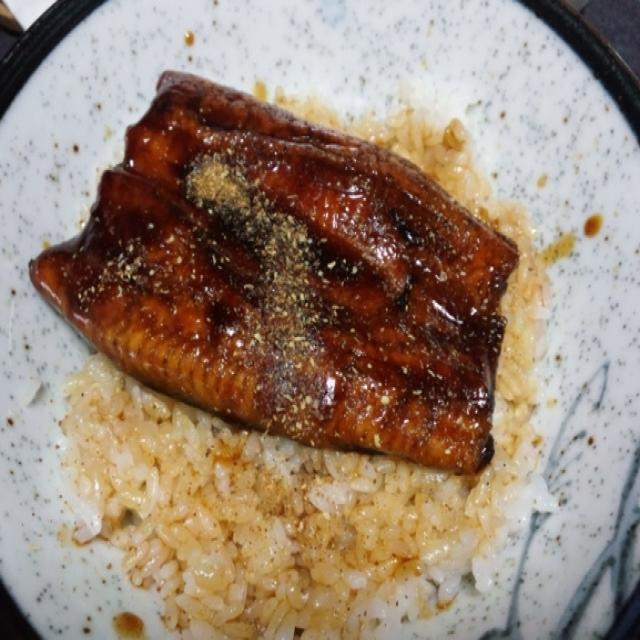熟制海鲜: (3, 5, 636, 634)
